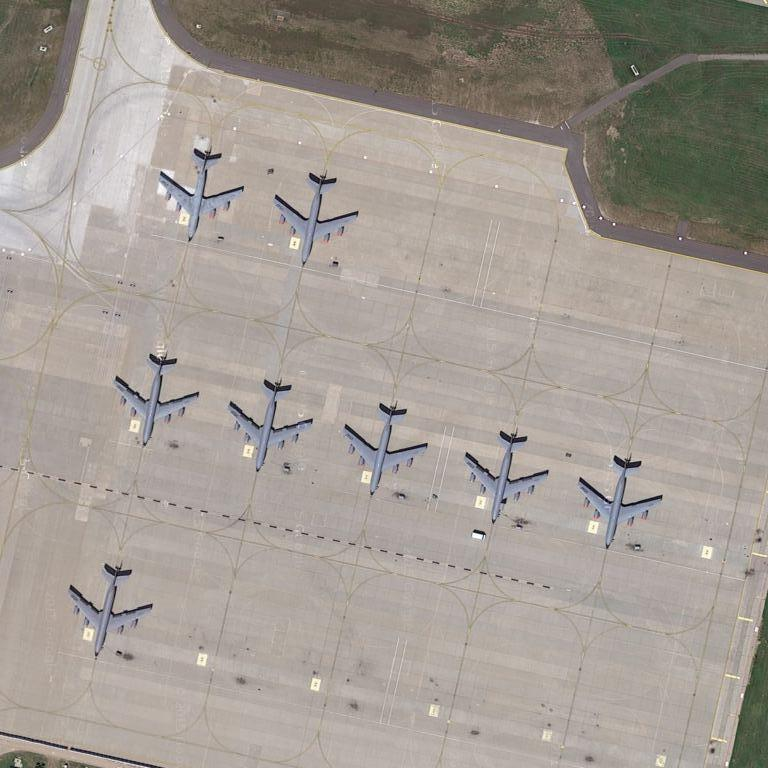KC-135: (576, 449, 667, 554), (62, 561, 160, 658), (341, 399, 432, 501), (462, 428, 551, 531), (156, 148, 249, 246), (269, 170, 363, 265), (227, 373, 314, 475), (112, 350, 203, 445)
